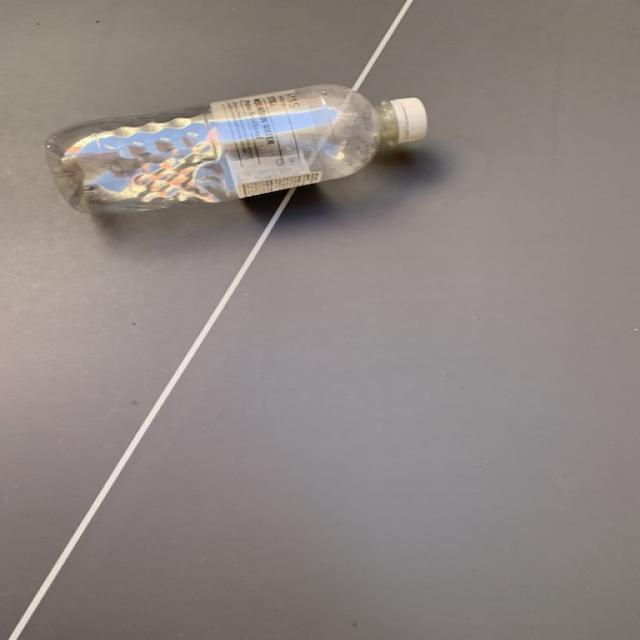Waste: (46, 84, 425, 213)
